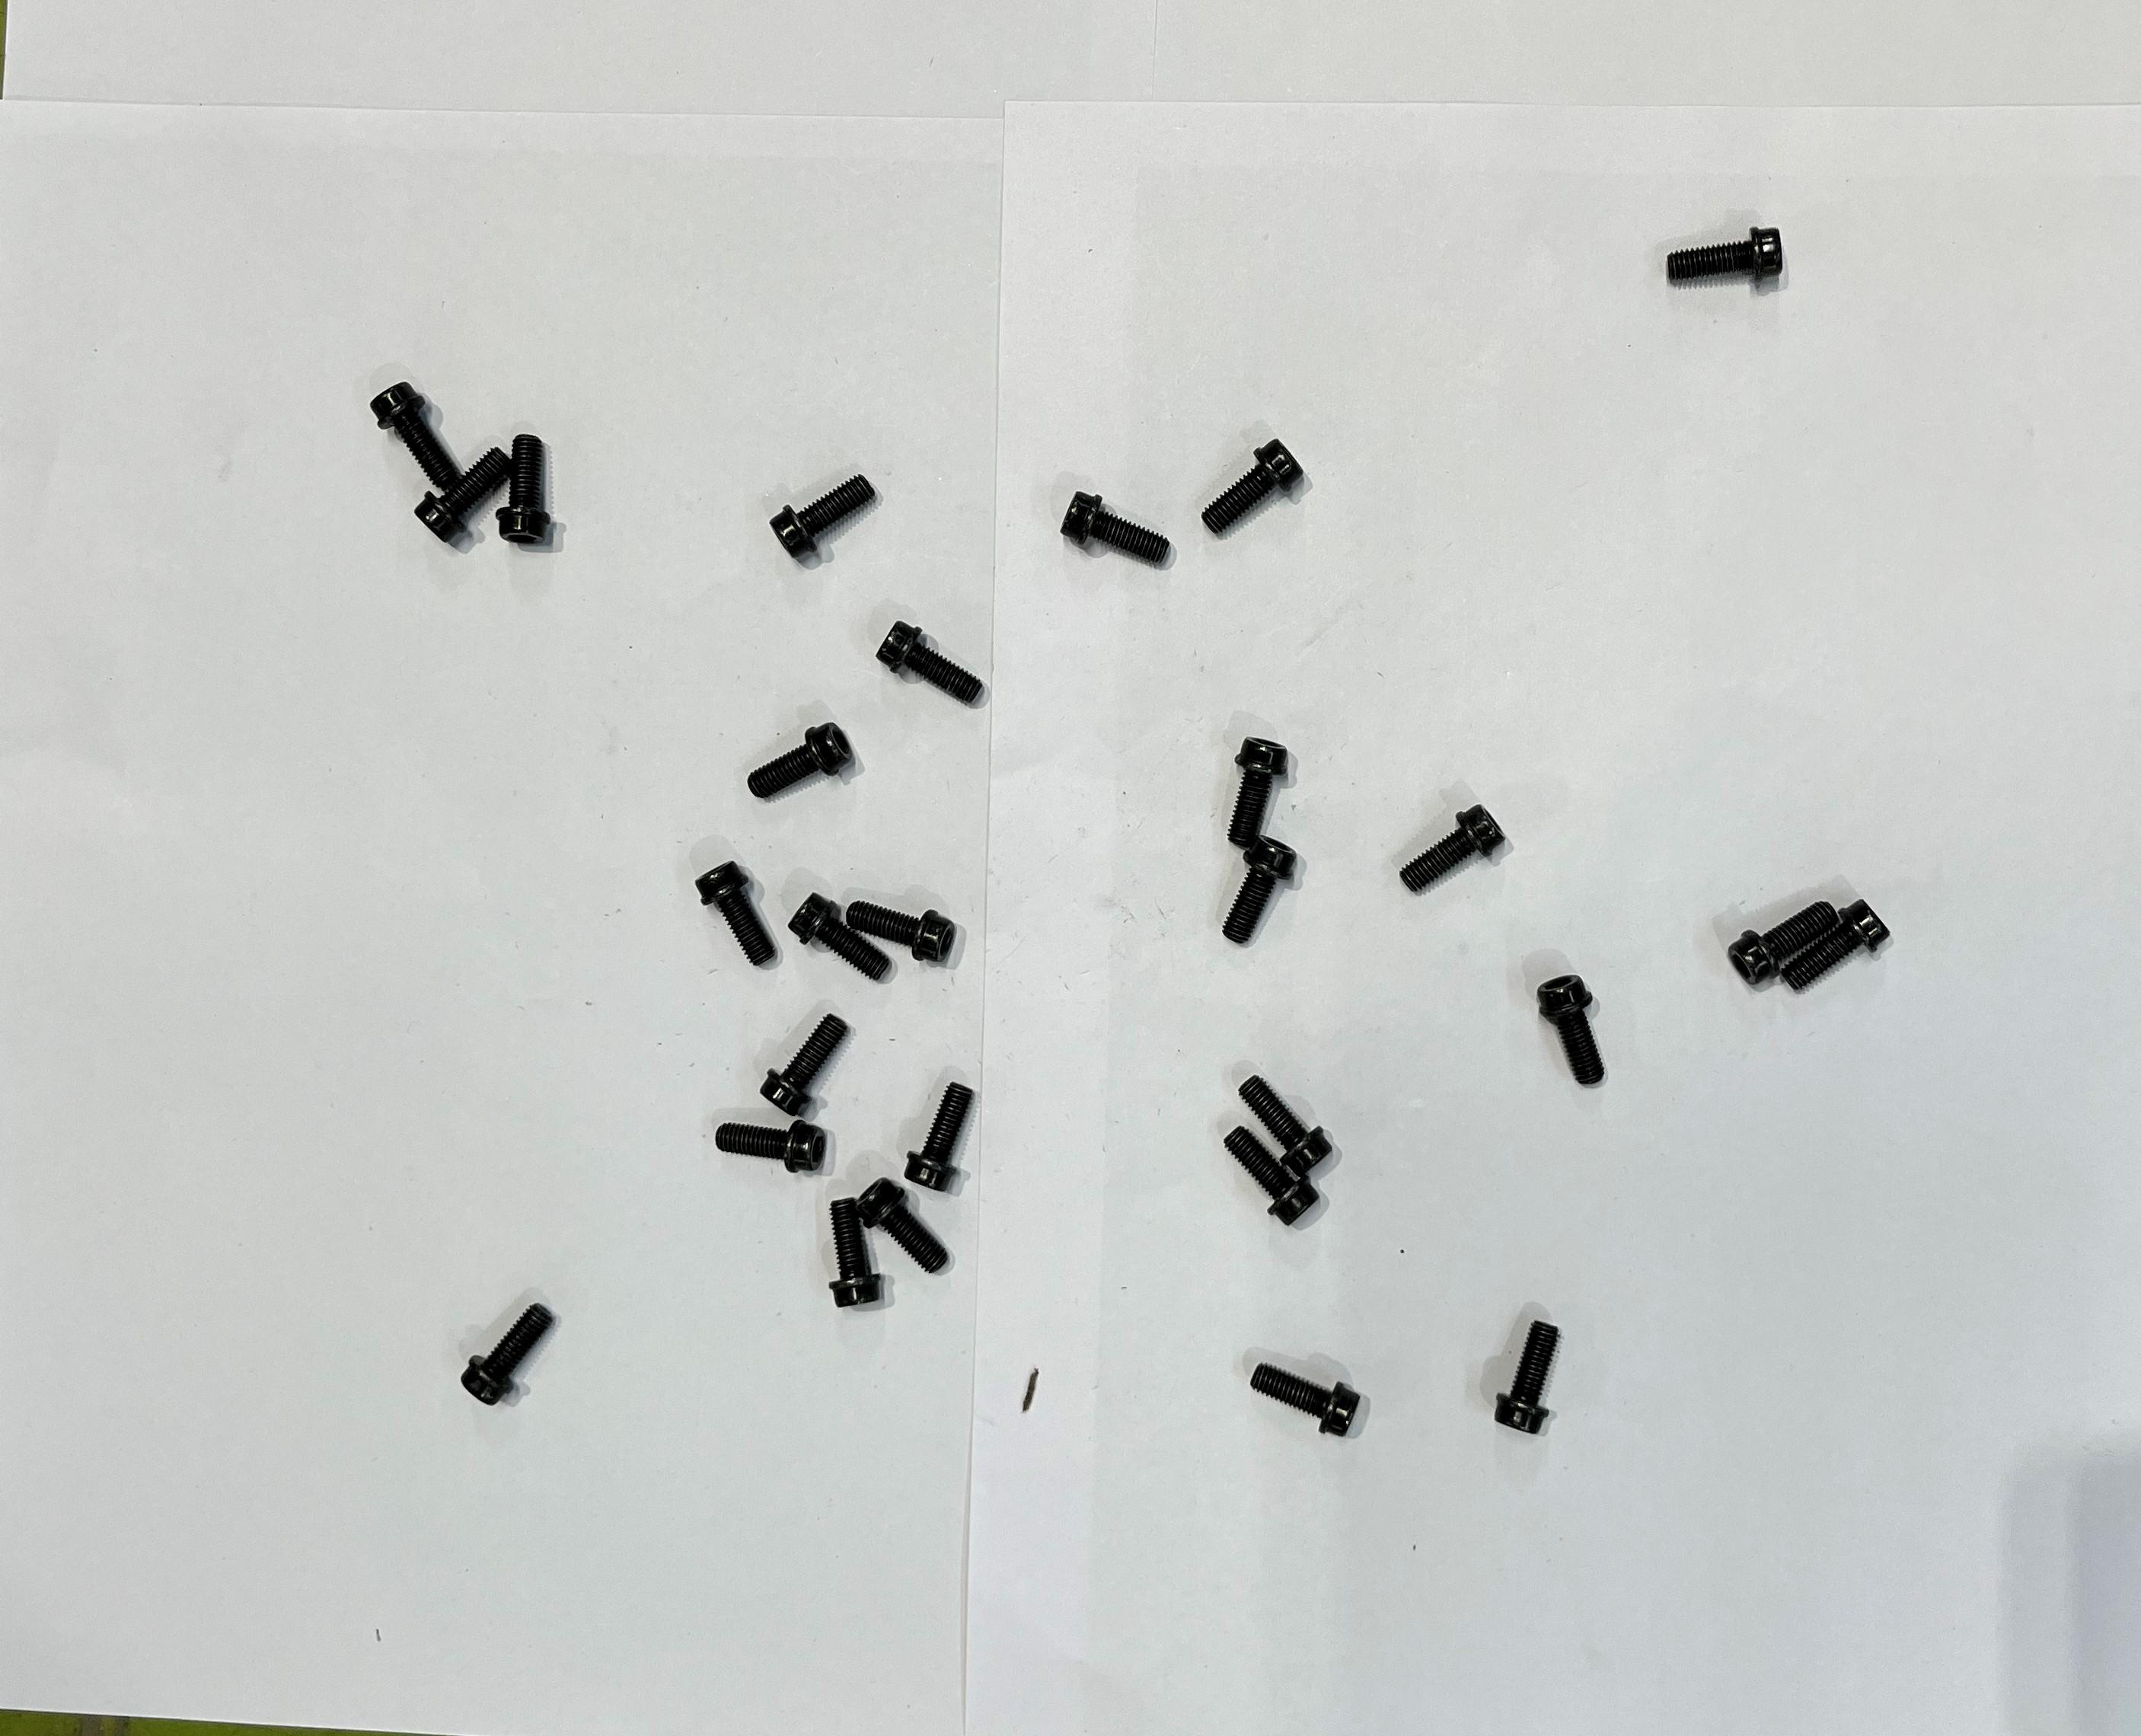Type C: (354, 384, 468, 491), (1762, 900, 1891, 990), (1201, 439, 1305, 540), (1220, 1127, 1321, 1228), (1240, 1070, 1335, 1176), (1727, 900, 1838, 987), (769, 471, 875, 562), (1397, 802, 1505, 891), (871, 622, 983, 707), (460, 1302, 553, 1405), (788, 889, 891, 981), (760, 1015, 852, 1116), (859, 1178, 951, 1275), (409, 452, 506, 544), (1250, 1357, 1360, 1438), (696, 863, 777, 969), (747, 723, 854, 804), (1059, 491, 1171, 567), (1658, 229, 1783, 296), (1495, 1320, 1564, 1437), (1537, 971, 1606, 1086), (903, 1081, 974, 1192), (1224, 838, 1293, 944), (714, 1112, 827, 1176), (1229, 733, 1287, 849), (496, 432, 554, 547), (846, 900, 955, 962), (831, 1196, 885, 1309)
